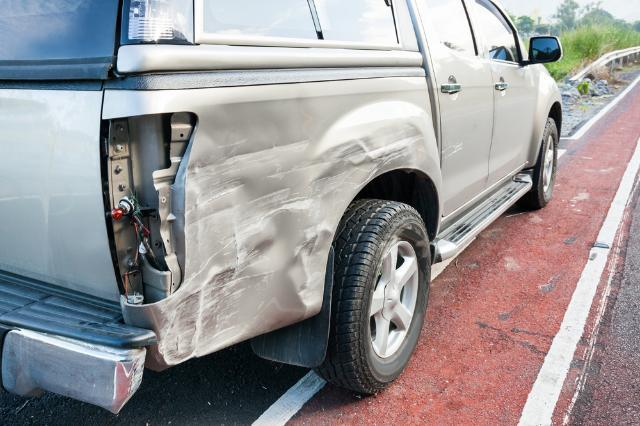dent: (152, 91, 427, 365)
no part: (107, 112, 195, 304)
scratch: (131, 349, 146, 394), (443, 142, 464, 158)
